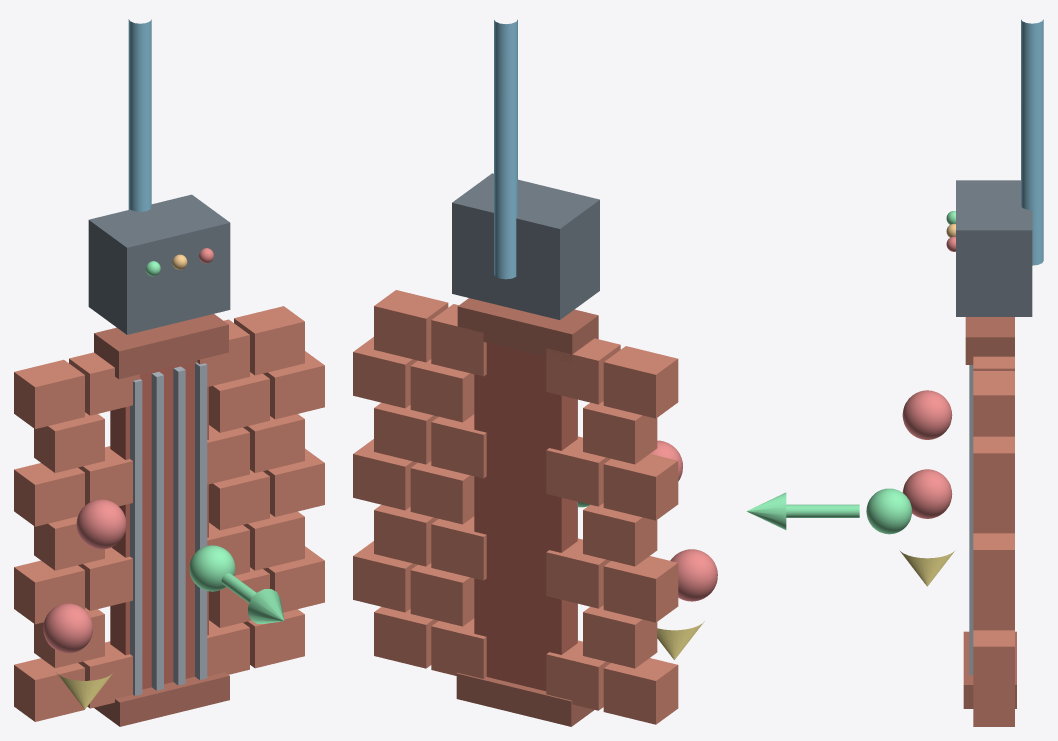
The model's file is firewall.glb.
The picture shows the model from 3 angles, left to right: view 1: azimuth 30°, elevation 25°; view 2: azimuth 150°, elevation 25°; view 3: azimuth 270°, elevation 25°; orthographic projection. The views are drawn at different scales.
Parts seen in each view (by area): view 1: firewall_wall, inspection_engine, gateway, gate_lintel, uplink_cable, gate_bar_3, gate_bar_2, gate_threshold, gate_bar_1, gate_bar_4, blocked_packet_1, blocked_packet_2 (+3 smaller); view 2: firewall_wall, gateway, inspection_engine, uplink_cable, gate_lintel, gate_threshold, blocked_packet_2, blocked_marker; view 3: firewall_wall, inspection_engine, uplink_cable, gate_lintel, blocked_packet_1, blocked_packet_2, traffic_direction, allowed_packet, gate_bar_4, gate_threshold, blocked_marker.
Boxes of the visible parts, left/top/right/bottom form: firewall_wall: left=14, top=306, right=324, bottom=721; inspection_engine: left=88, top=194, right=230, bottom=334; gateway: left=110, top=360, right=208, bottom=689; gate_lintel: left=94, top=314, right=228, bottom=379; uplink_cable: left=128, top=19, right=151, bottom=211; gate_bar_3: left=173, top=366, right=185, bottom=685; gate_bar_2: left=151, top=372, right=163, bottom=690; gate_threshold: left=94, top=672, right=229, bottom=726; gate_bar_1: left=130, top=379, right=142, bottom=695; gate_bar_4: left=195, top=362, right=207, bottom=679; blocked_packet_1: left=76, top=499, right=126, bottom=549; blocked_packet_2: left=43, top=603, right=92, bottom=653; firewall_wall: left=353, top=290, right=678, bottom=724; gateway: left=474, top=343, right=577, bottom=691; inspection_engine: left=452, top=173, right=599, bottom=319; uplink_cable: left=494, top=19, right=517, bottom=279; gate_lintel: left=457, top=298, right=598, bottom=361; gate_threshold: left=456, top=672, right=594, bottom=726; blocked_packet_2: left=670, top=549, right=717, bottom=601; blocked_marker: left=657, top=621, right=704, bottom=659; firewall_wall: left=973, top=356, right=1014, bottom=726; inspection_engine: left=956, top=180, right=1032, bottom=316; uplink_cable: left=1021, top=19, right=1043, bottom=265; gate_lintel: left=965, top=317, right=1014, bottom=364; blocked_packet_1: left=902, top=390, right=952, bottom=439; blocked_packet_2: left=902, top=469, right=952, bottom=518; traffic_direction: left=746, top=492, right=859, bottom=529; allowed_packet: left=866, top=488, right=911, bottom=534; gate_bar_4: left=969, top=365, right=973, bottom=675; gate_threshold: left=963, top=631, right=1016, bottom=708; blocked_marker: left=899, top=550, right=954, bottom=586.
Size of the model in its own units: 0.8004 by 1.7 by 0.6898.
